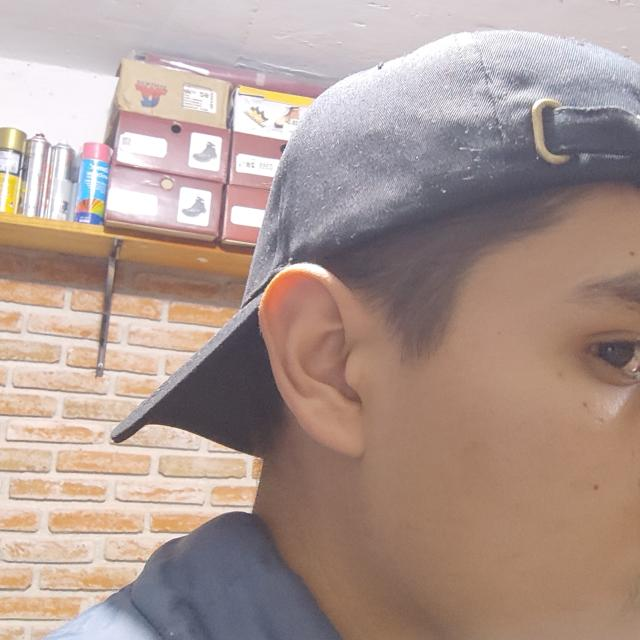ear: (259, 262, 389, 458)
